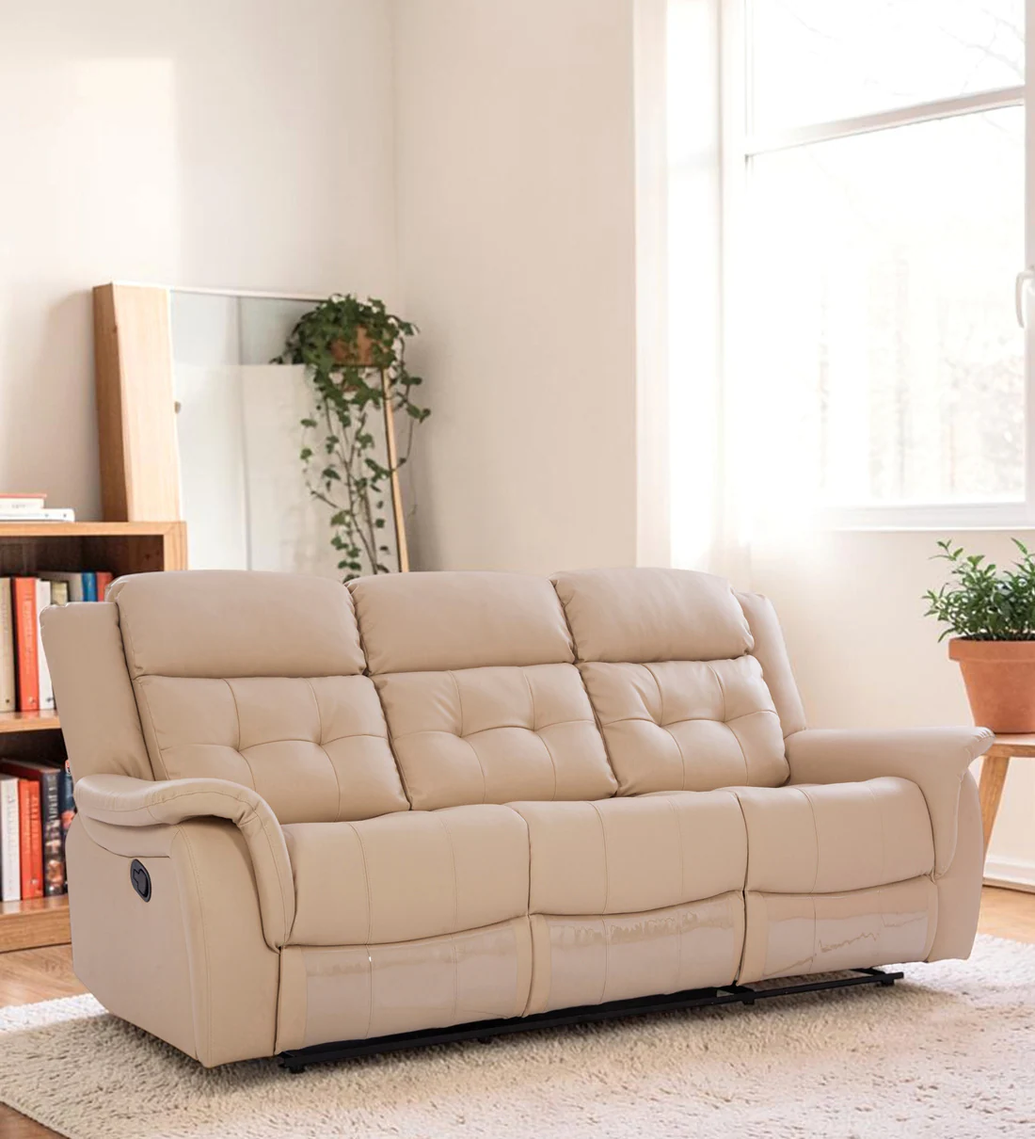3seatersofa: (42, 569, 993, 1070)
backrest: (109, 570, 784, 824)
base: (278, 879, 935, 1050)
leftarmrest: (735, 591, 990, 958)
leg: (279, 968, 903, 1073)
rightarmrest: (43, 604, 295, 1065)
seat: (284, 777, 934, 945)
